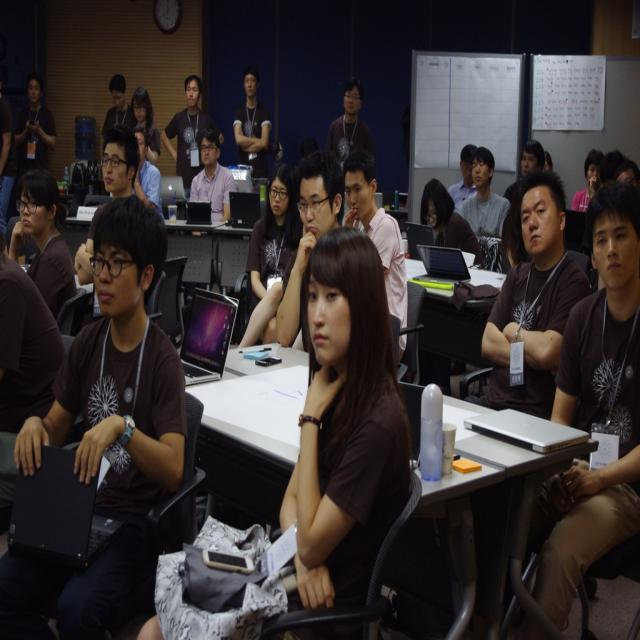chair: (61, 390, 208, 630), (259, 467, 423, 638), (148, 255, 188, 348), (398, 280, 427, 384), (56, 287, 93, 336)
desk: (190, 342, 591, 640)
laptop: (4, 438, 119, 570), (464, 406, 594, 455), (178, 288, 238, 389), (416, 243, 474, 280), (229, 191, 262, 228), (407, 221, 438, 258), (160, 176, 187, 203), (184, 200, 212, 224)
person: (7, 196, 190, 628), (512, 179, 640, 633), (276, 225, 414, 622), (479, 170, 592, 419), (342, 148, 408, 374), (275, 146, 345, 356), (236, 162, 304, 351), (9, 166, 78, 318), (164, 74, 222, 195), (421, 177, 484, 266), (458, 144, 510, 248), (233, 64, 274, 188), (324, 77, 376, 171), (190, 124, 238, 219), (0, 72, 16, 241), (571, 148, 604, 212), (448, 141, 478, 210)
